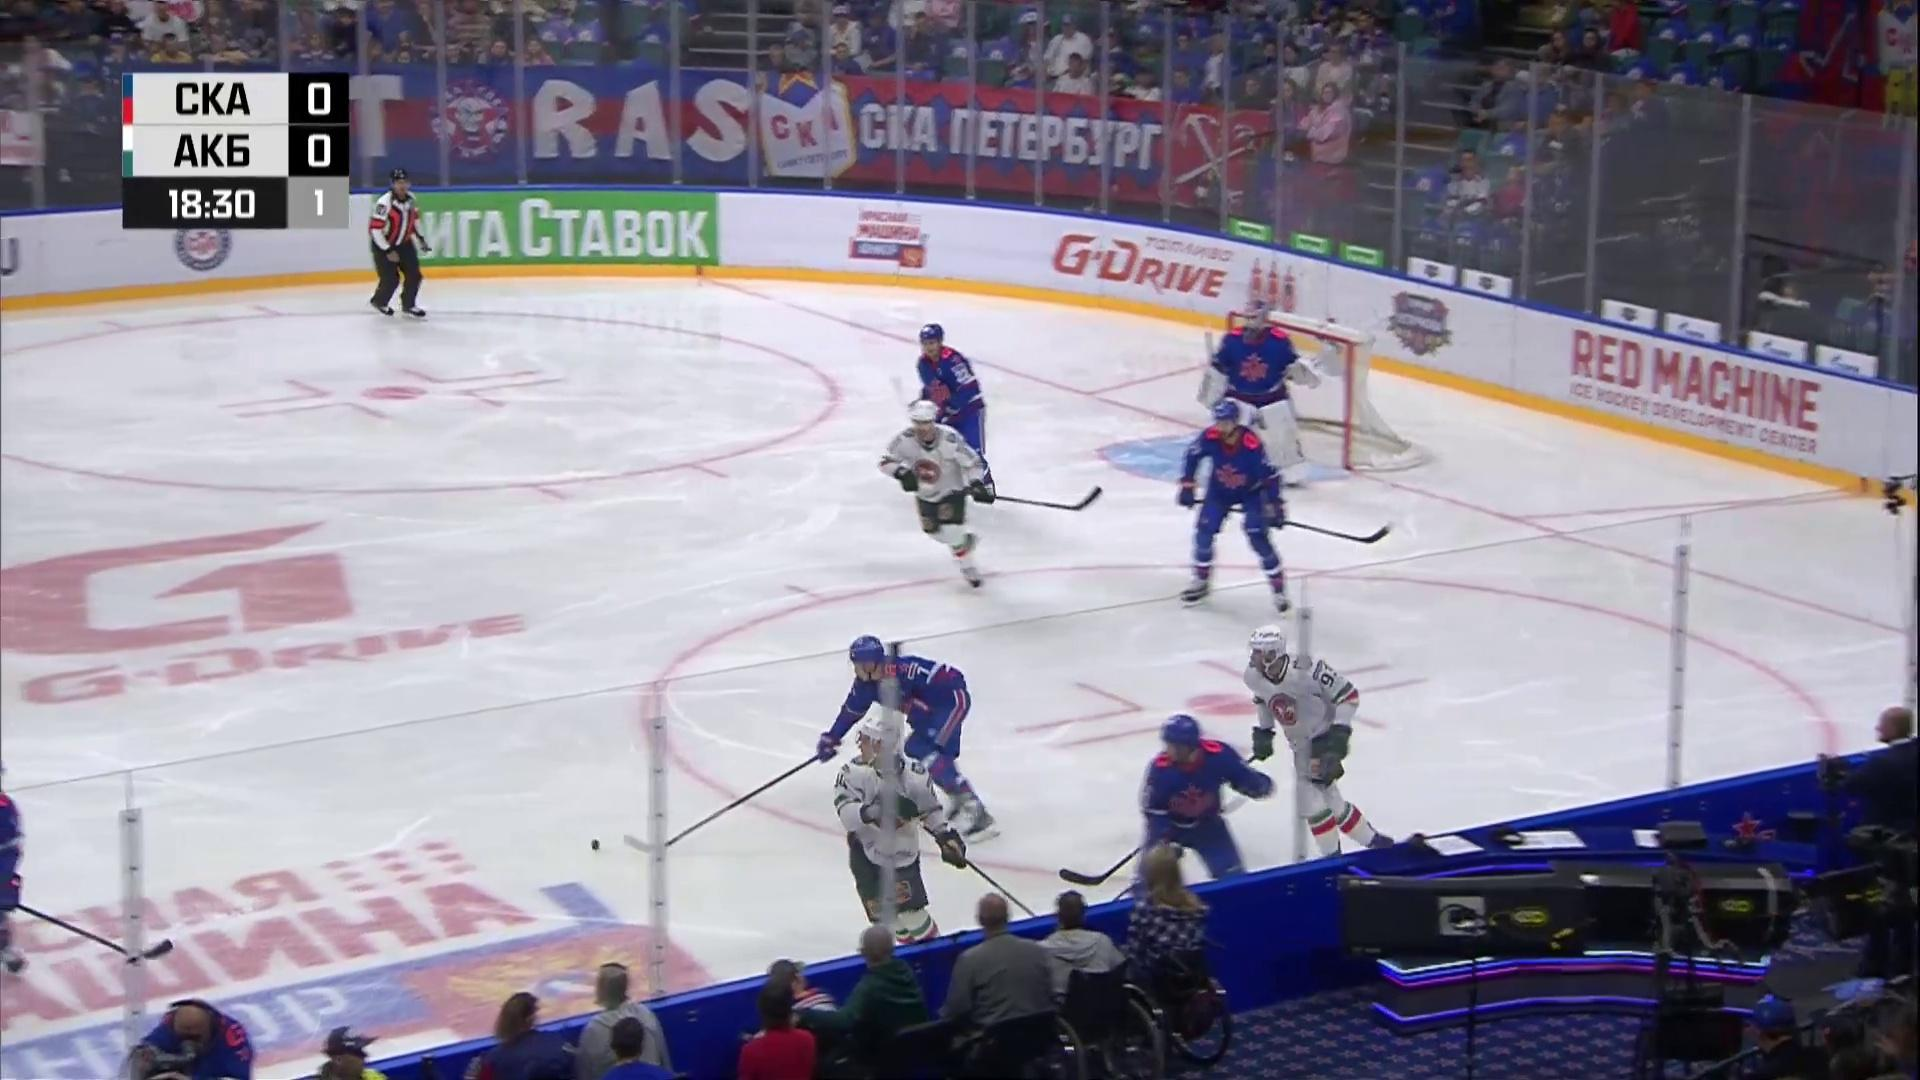ball: (589, 839, 601, 852)
